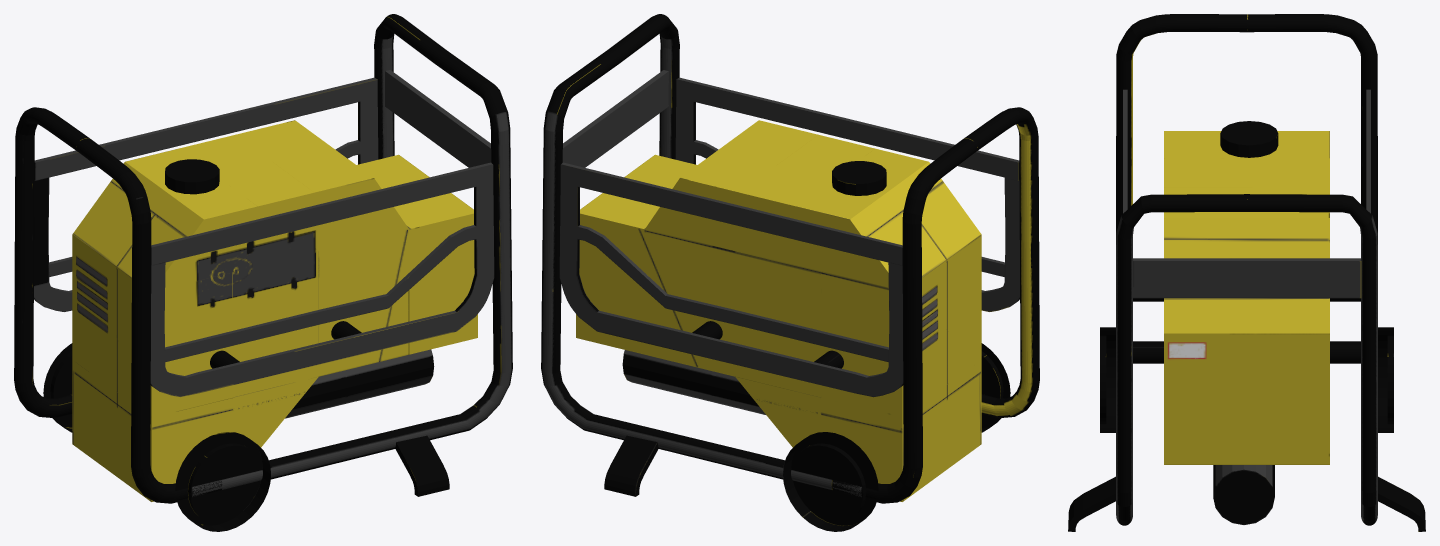
Rendered from FinalGenerator.fbx.
The picture shows the model from 3 angles, left to right: view 1: azimuth 30°, elevation 25°; view 2: azimuth 150°, elevation 25°; view 3: azimuth 270°, elevation 25°; orthographic projection. The views are drawn at different scales.
Visible parts, largest first — view 1: Generator; view 2: Generator; view 3: Generator.
Part boxes in pixels (<box>): Generator: <box>14,14,512,531</box>; Generator: <box>541,14,1039,531</box>; Generator: <box>1068,14,1425,531</box>.
Bounding box in the file's own units: 570 × 517 × 444.
1 material, 1 textured.
